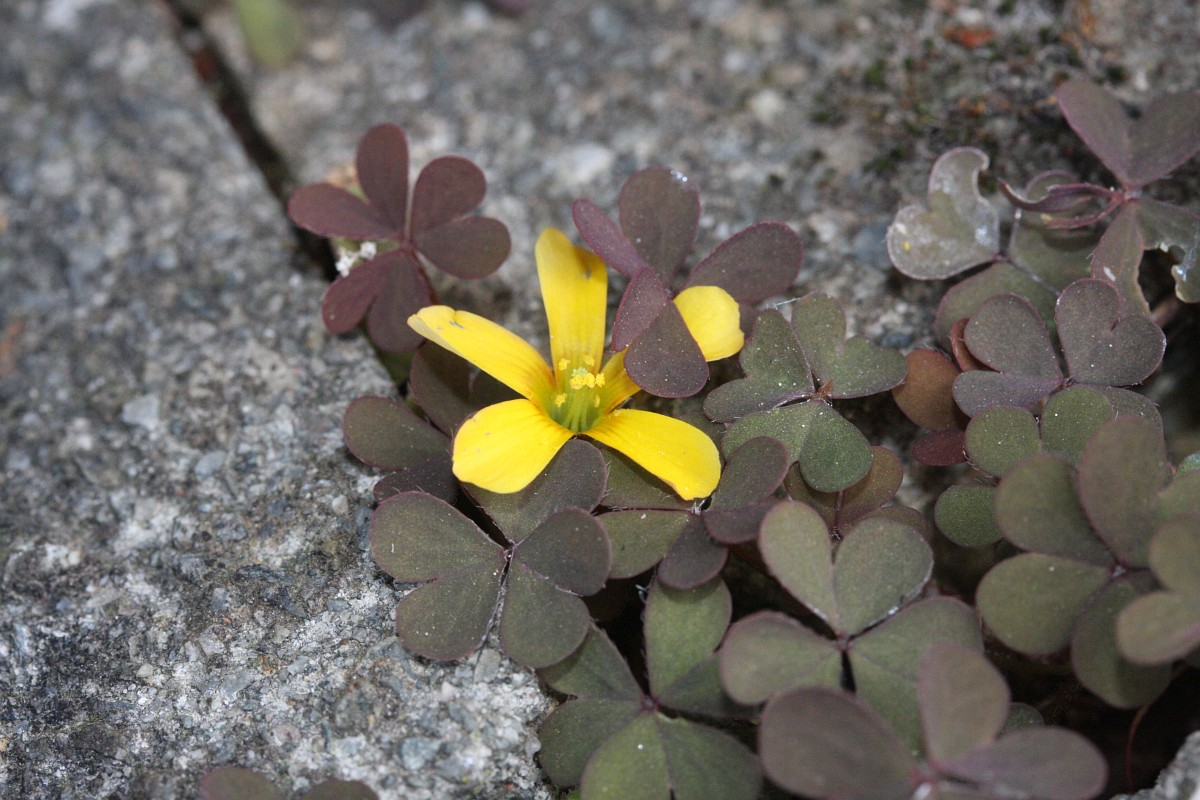oxalis: (381, 203, 1195, 795)
